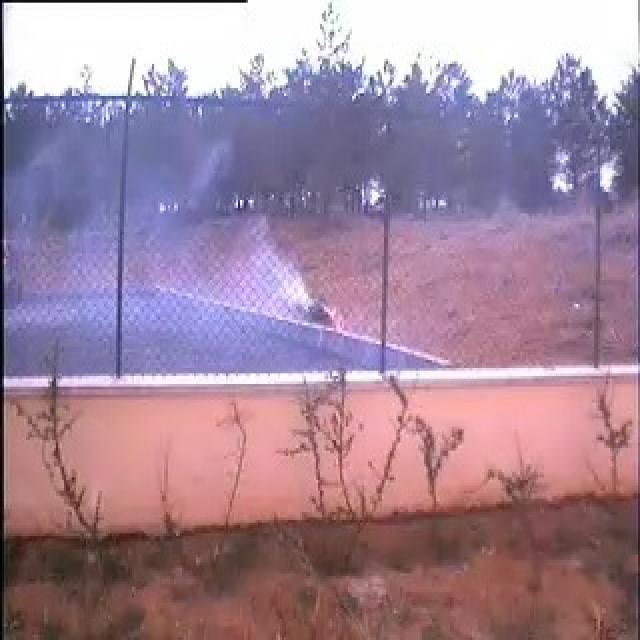smoke: (25, 124, 338, 372)
